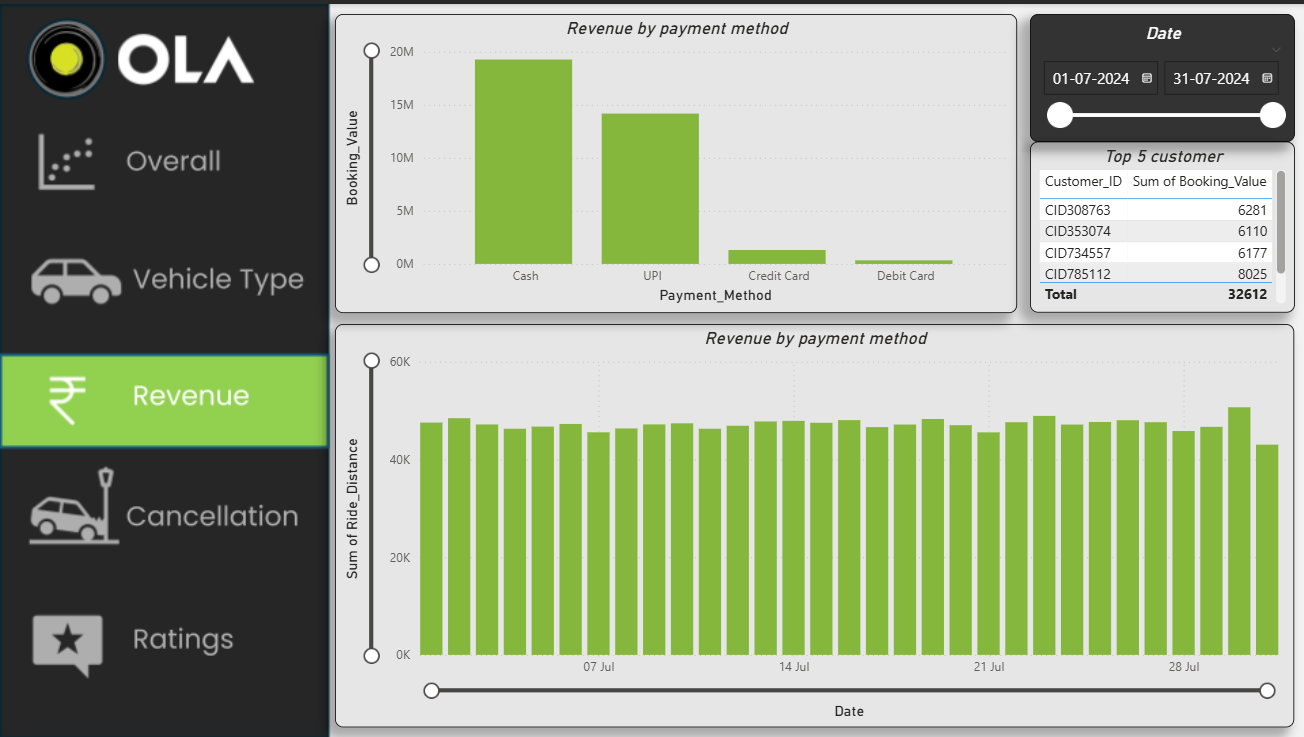

The page's visual inventory and layout, read from the dashboard file:
{"tool":"powerbi","page":{"name":"revenue","canvas":[1280,720],"ordinal":2},"visuals":[{"type":"actionButton","box":[0,223.3,319,92],"z":0},{"type":"actionButton","box":[0,344.8,319,88.3],"z":1000},{"type":"actionButton","box":[0,455.2,319,95.7],"z":2000},{"type":"actionButton","box":[0,579.1,319,90.8],"z":3000},{"type":"actionButton","box":[0,110.4,319,92],"z":4000},{"type":"columnChart","title":"Revenue by payment method","fields":{"Y":["Sum(July (2).Booking_Value)"],"Category":["July (2).Payment_Method"]},"box":[329.3,9.3,669.3,293.3],"z":5000},{"type":"columnChart","title":"Revenue by payment method","fields":{"Y":["Sum(July (2).Ride_Distance)"],"Category":["July (2).Date"]},"box":[329.3,314.7,941.3,396],"z":6000},{"type":"slicer","title":"Date","fields":{"Values":["July (2).Date"]},"box":[1010.7,9.3,260,125.3],"z":7000},{"type":"tableEx","title":"Top 5 customer","fields":{"Values":["July (2).Customer_ID","Sum(July (2).Booking_Value)"]},"box":[1010.7,134.7,260,168],"z":8000}]}

Visuals, with their boxes in screenshot pixels (x1, y1, x2, y2), scaled from the page's 1280x720 canvas onto the 1304x737 screenshot:
actionButton: region(0, 229, 325, 323)
actionButton: region(0, 353, 325, 443)
actionButton: region(0, 466, 325, 564)
actionButton: region(0, 593, 325, 686)
actionButton: region(0, 113, 325, 207)
"Revenue by payment method" columnChart: region(335, 10, 1017, 310)
"Revenue by payment method" columnChart: region(335, 322, 1294, 727)
"Date" slicer: region(1030, 10, 1295, 138)
"Top 5 customer" tableEx: region(1030, 138, 1295, 310)
